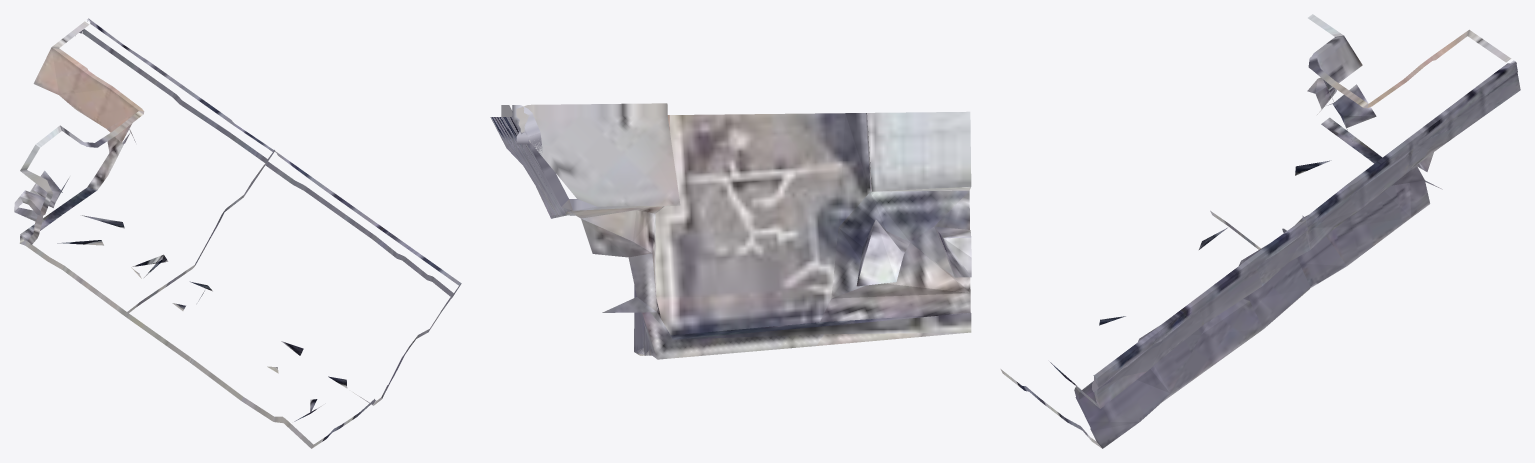
3 views of the same model, side by side, from view 1: azimuth 30°, elevation 25°; view 2: azimuth 150°, elevation 25°; view 3: azimuth 270°, elevation 25° (orthographic). The views are drawn at different scales.
Size of the model in its own units: 30.93 by 24.31 by 35.
Materials: 1 (1 with a texture image).
